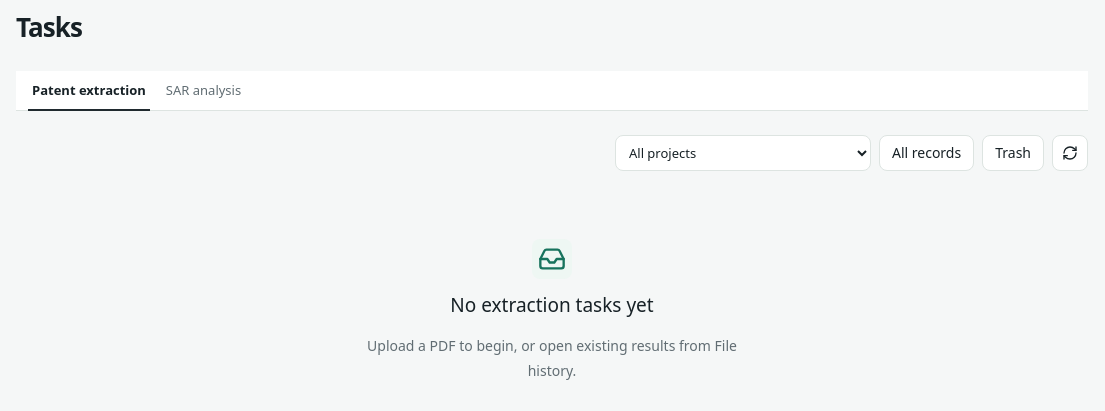
filters with server queries and retains disabled known records while an error is unresolved
Click the tab "SAR analysis". click: coordinates (204, 90)
box: [162,71,245,110]
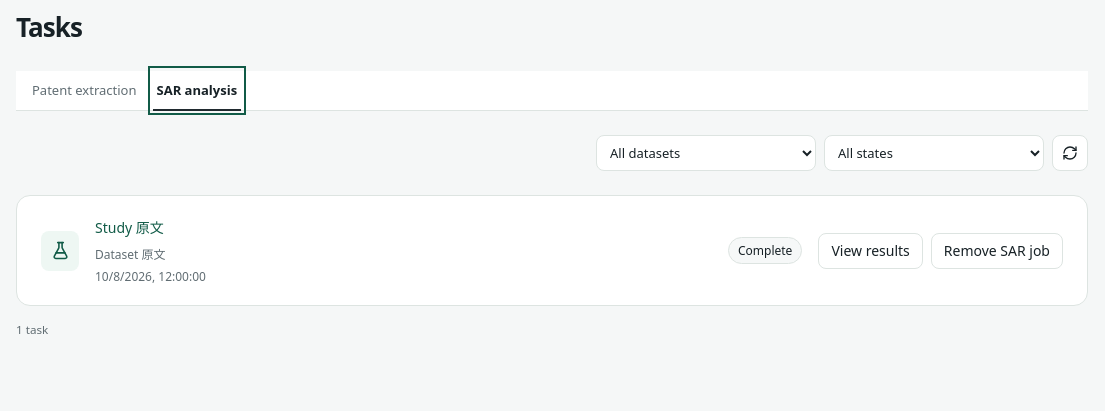
Expected: the button "View results" is enabled, [818,233,923,269]
Select "Complete" in the dropdown named "Filter SAR status". click: coordinates (934, 153)
box: [824,135,1044,171]
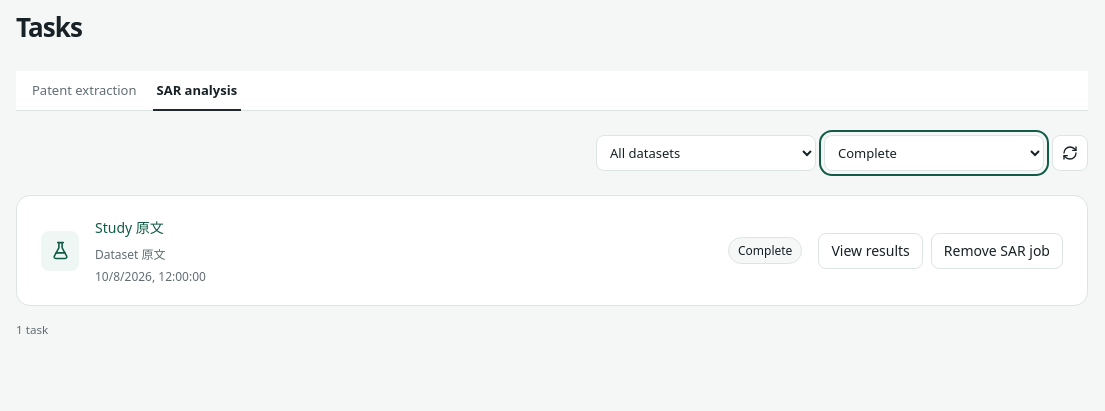
Click the button named "Refresh SAR tasks". click: coordinates (1070, 153)
box: [1052,135,1088,171]
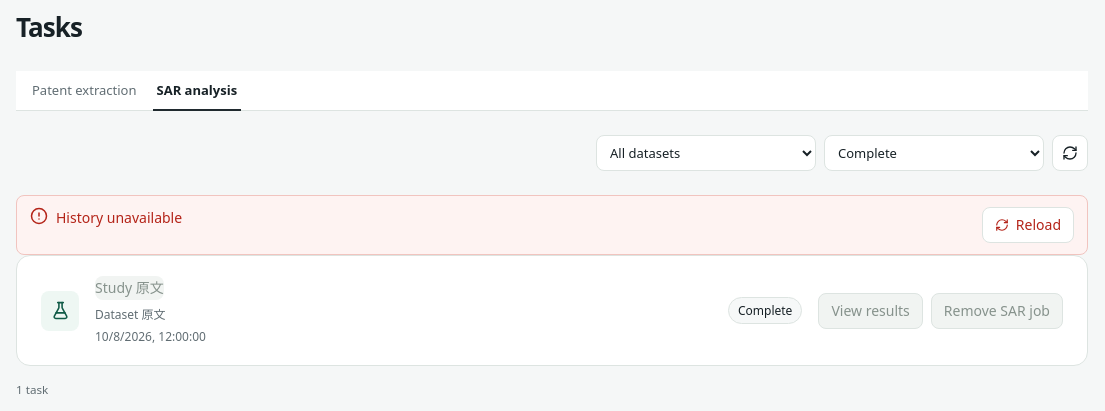
Expected: the message shows "History unavailable", [56,208,182,227]
Expected: the button "View results" is disabled, [818,293,923,329]
Expected: the button "Remove SAR job" is disabled, [931,293,1063,329]
Click the button "Reload". click: coordinates (1028, 225)
box: [982,207,1074,243]
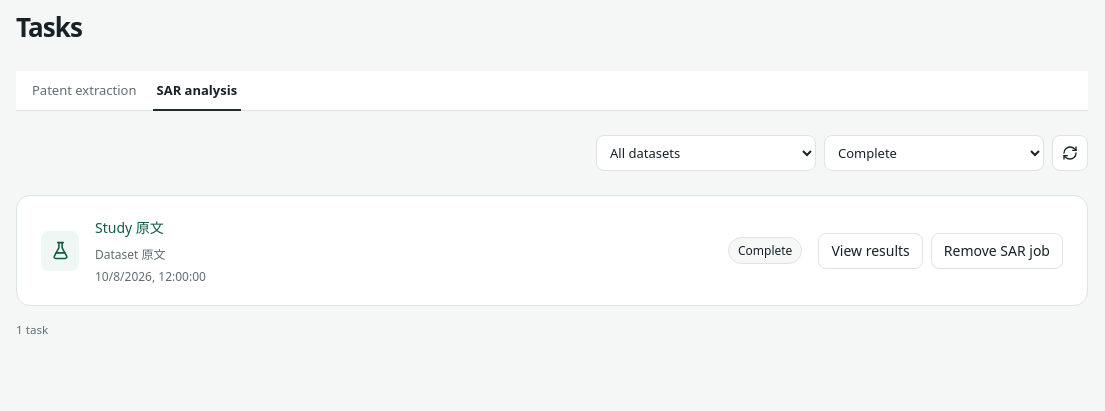
Expected: the button "View results" is enabled, [818,233,923,269]
